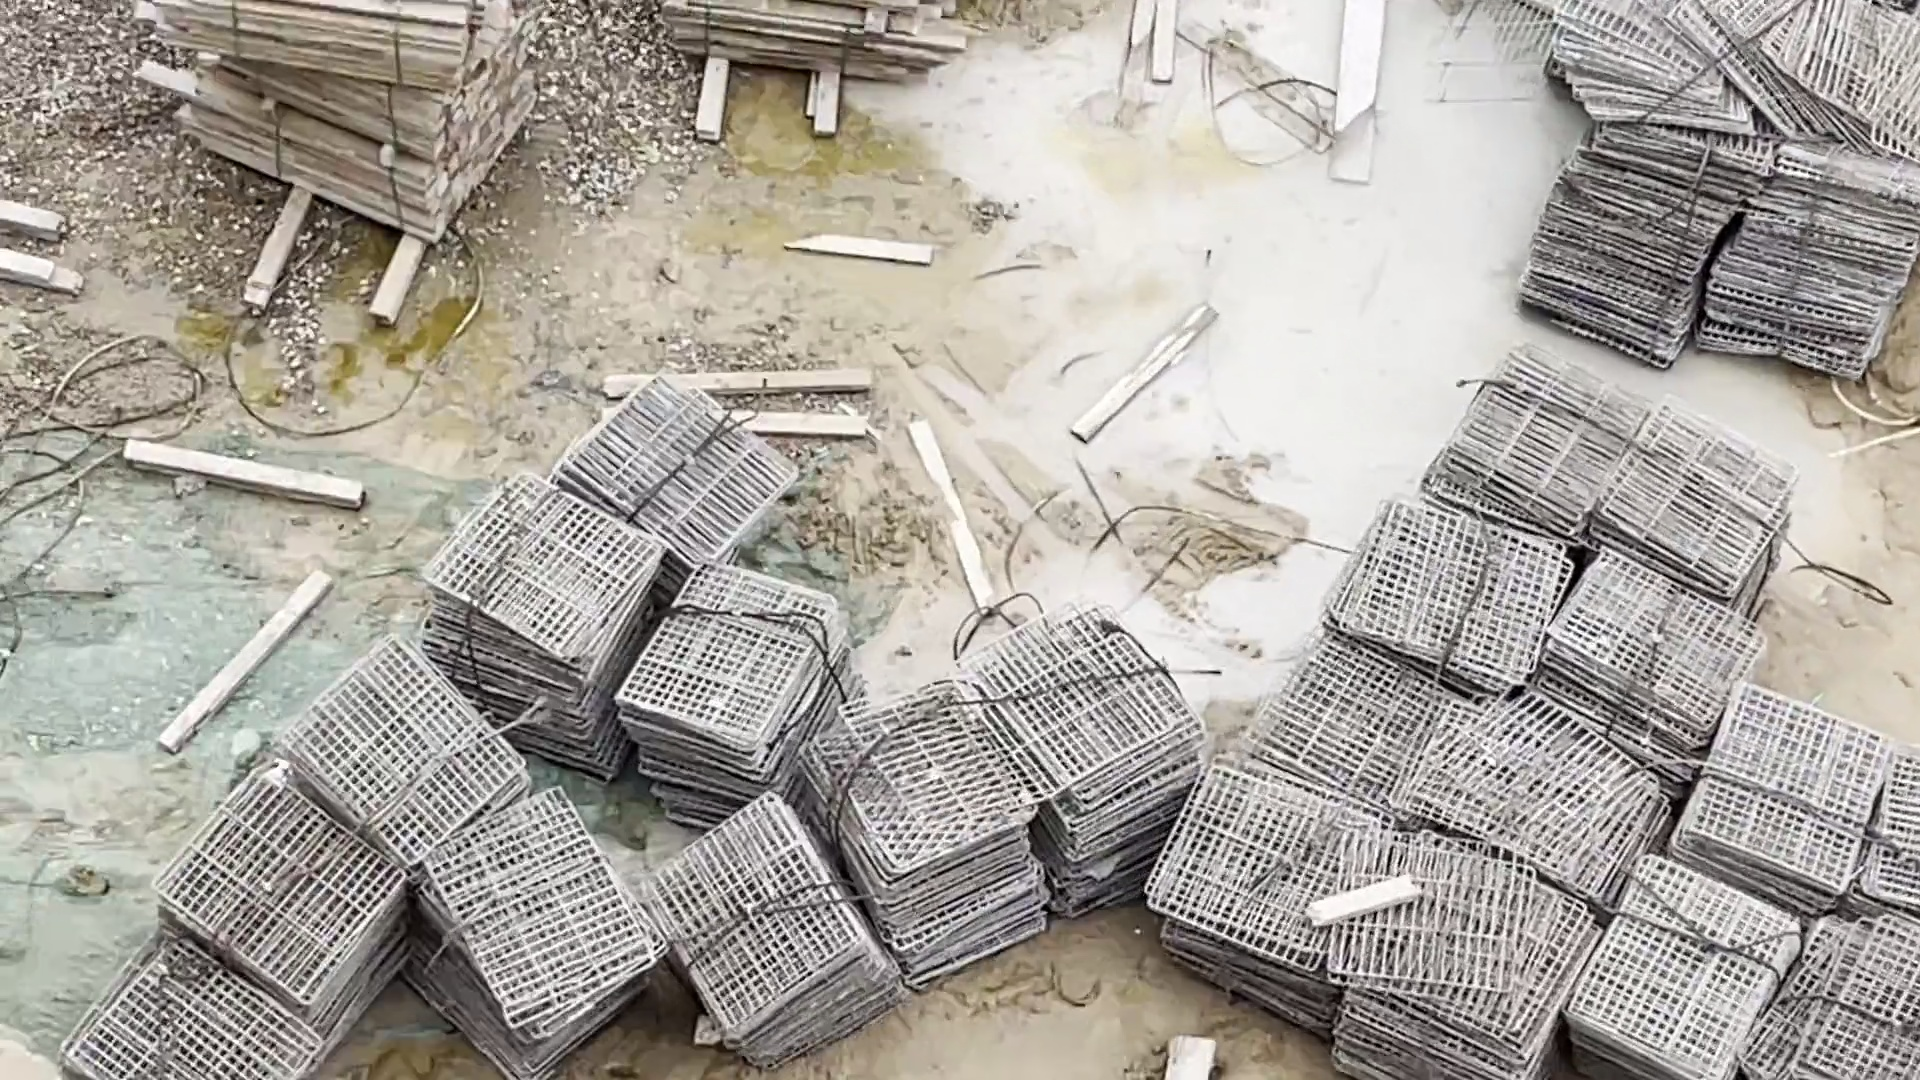wood: (131, 1, 537, 243), (644, 3, 967, 88)
